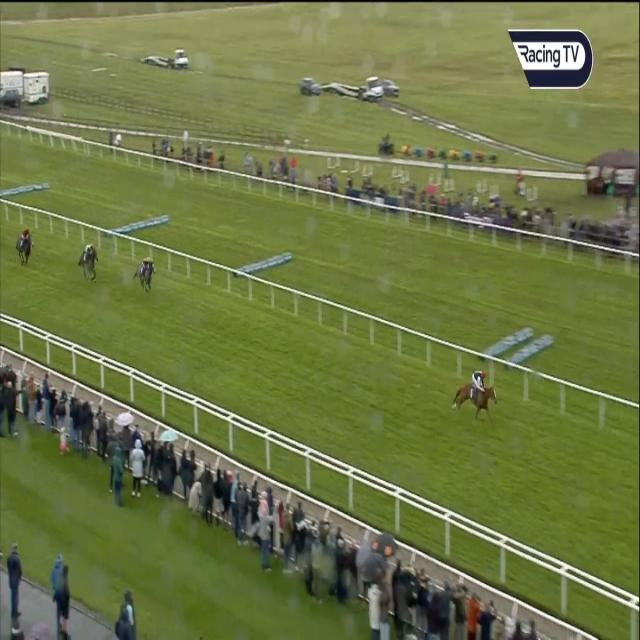horses-racing: (457, 366, 500, 424), (136, 256, 159, 292), (16, 224, 34, 262), (81, 243, 95, 280)
